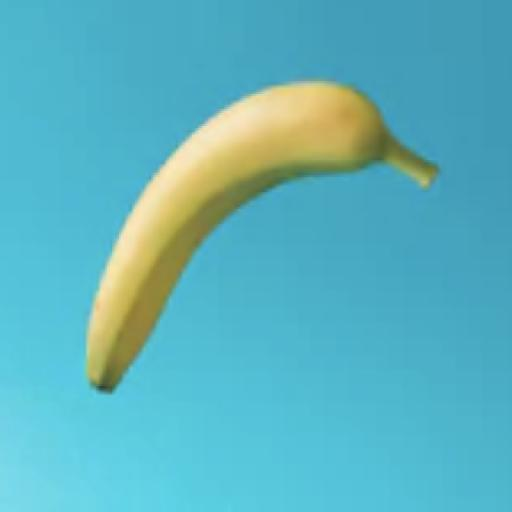banana: (88, 82, 437, 390)
